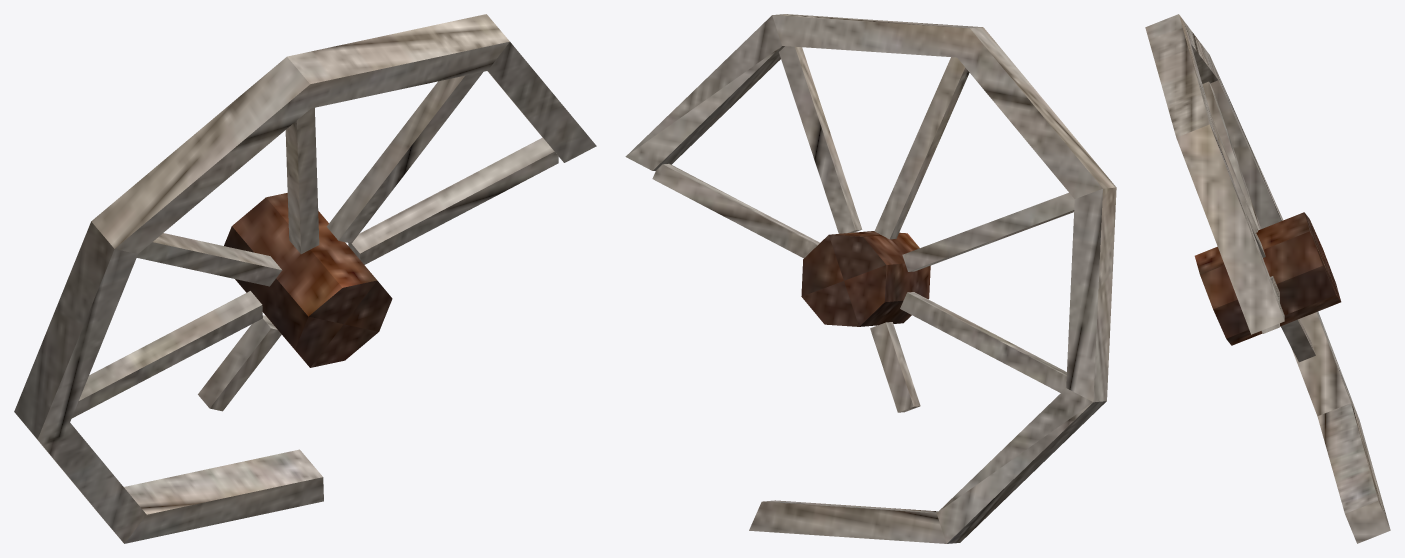
File: broken_cart_wheel_tex.glb
3 views of the same model, side by side, from view 1: azimuth 30°, elevation 25°; view 2: azimuth 150°, elevation 25°; view 3: azimuth 270°, elevation 25° (orthographic). The views are drawn at different scales.
Visible parts, largest first — view 1: broken_cart_wheel; view 2: broken_cart_wheel; view 3: broken_cart_wheel.
Part boxes in pixels (<box>): broken_cart_wheel: <box>14,14,596,543</box>; broken_cart_wheel: <box>625,14,1116,543</box>; broken_cart_wheel: <box>1145,14,1390,543</box>.
Bounding box in the file's own units: 0.836 × 0.7901 × 0.3732.
Materials: 1 (1 with a texture image).
